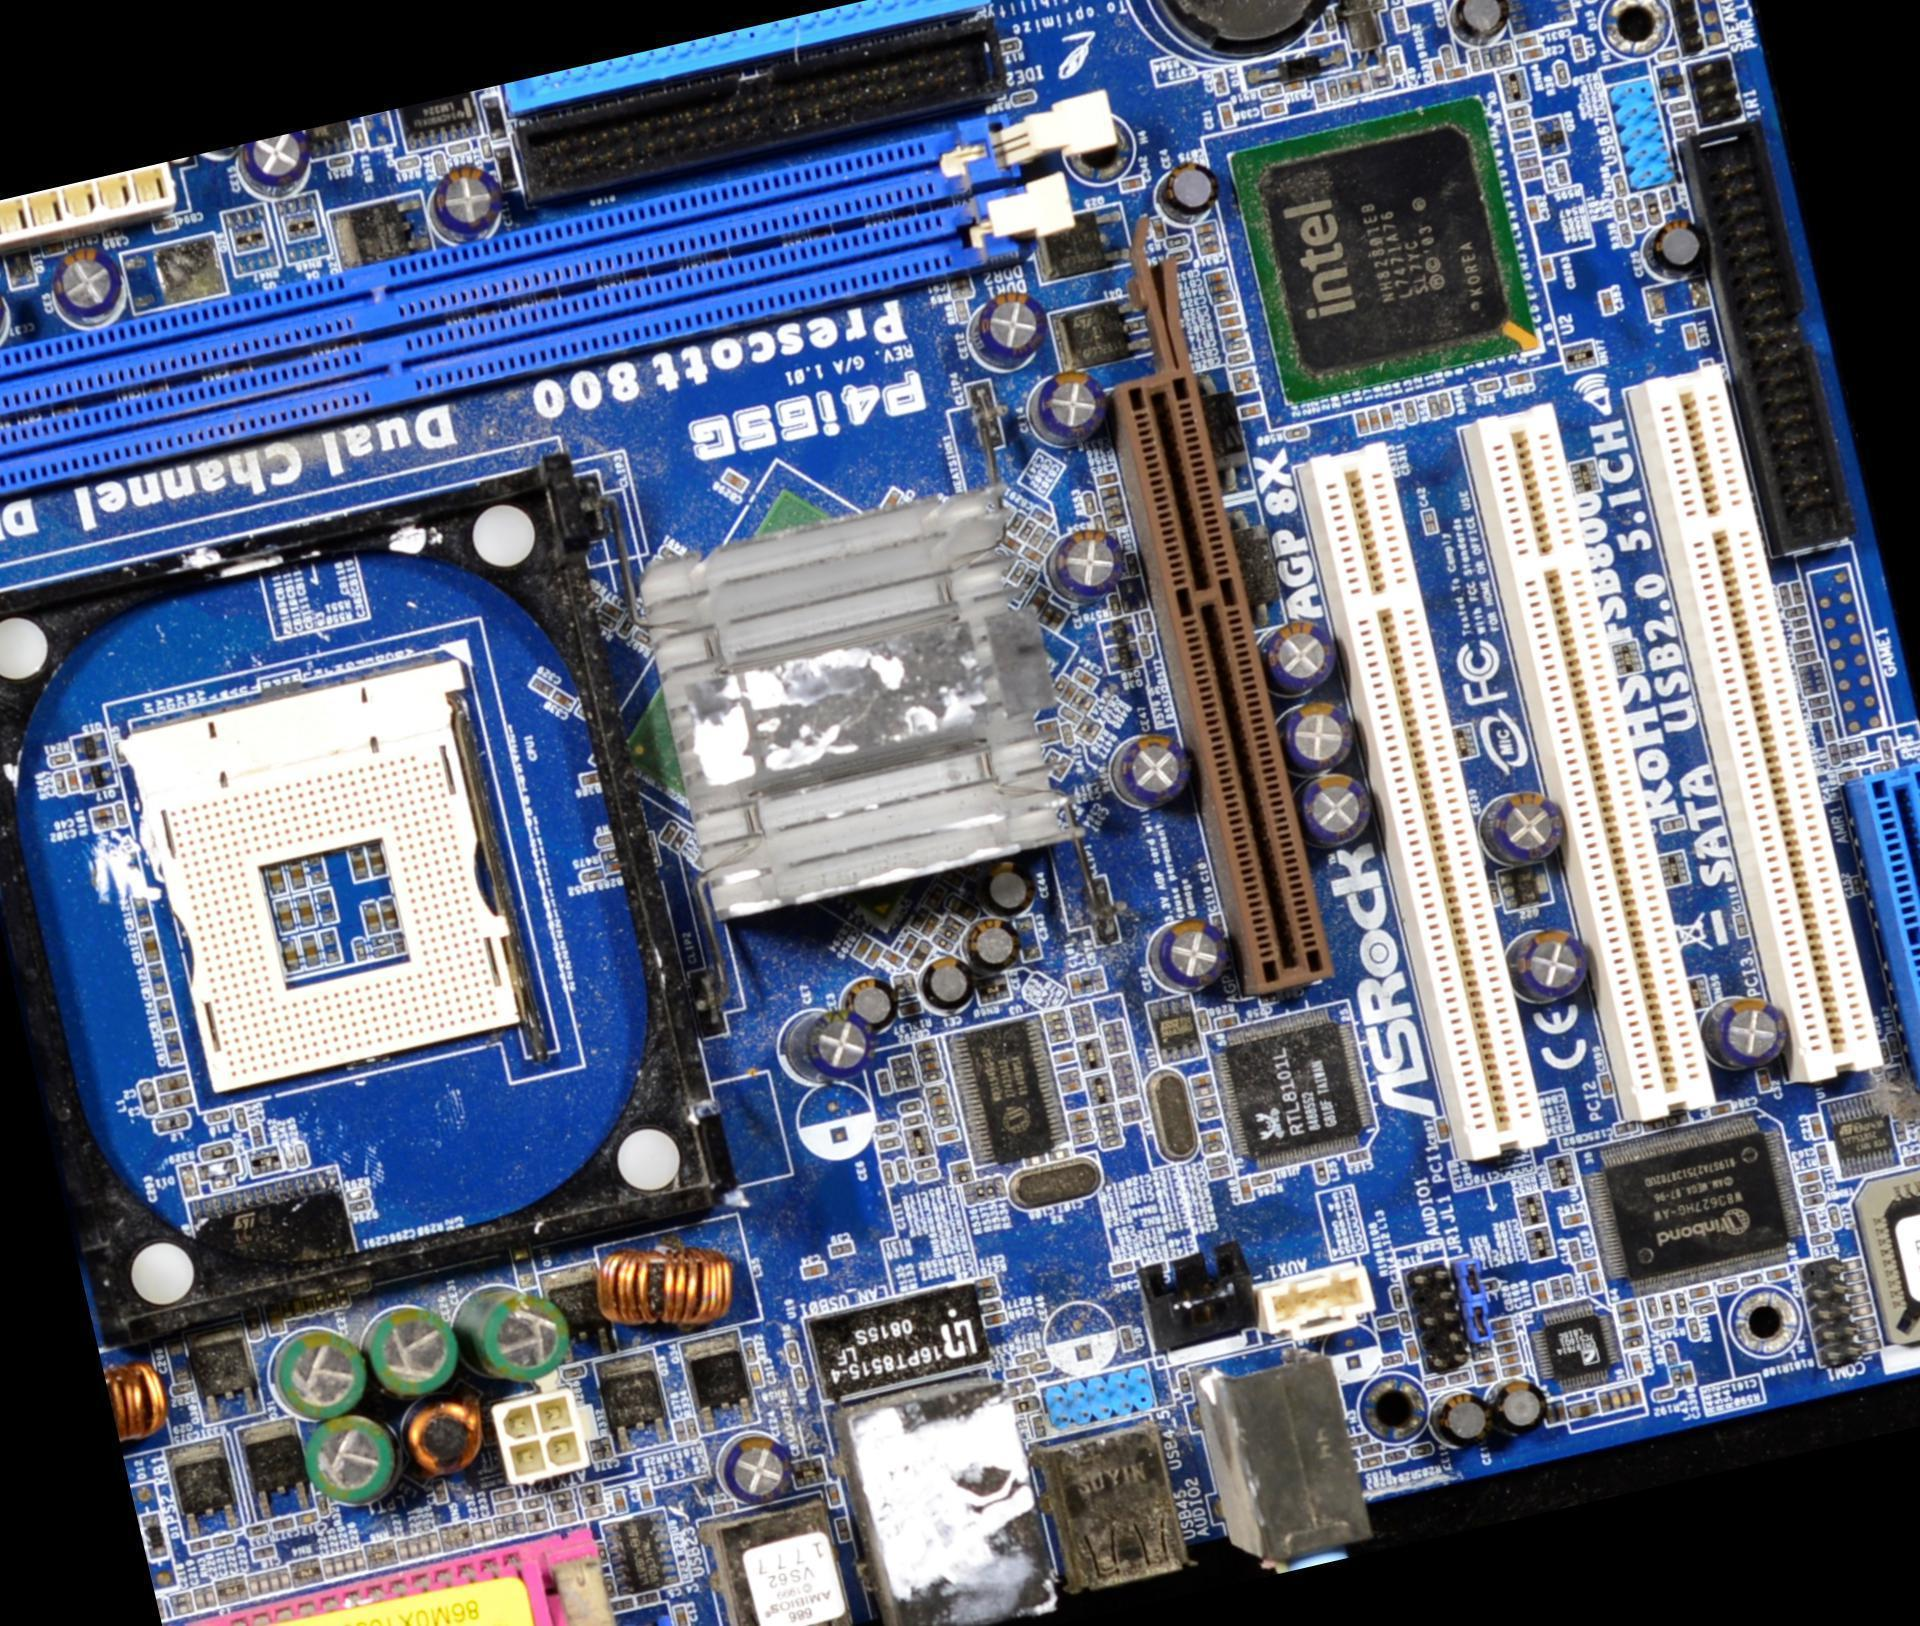Capacitor: (717, 463, 751, 498), (154, 1073, 190, 1095), (179, 1164, 200, 1198), (158, 1089, 191, 1110), (552, 687, 577, 713), (530, 674, 553, 698), (1657, 814, 1687, 832), (1229, 368, 1256, 385), (1353, 409, 1371, 434), (1733, 913, 1750, 938), (251, 1544, 276, 1561), (611, 1490, 628, 1515), (1343, 1148, 1369, 1164), (1620, 1324, 1646, 1340), (934, 1127, 958, 1144), (1219, 313, 1243, 330), (1435, 1116, 1451, 1141), (270, 1516, 295, 1532), (470, 1520, 486, 1545), (1059, 1079, 1082, 1096), (1611, 1120, 1637, 1135), (748, 1363, 763, 1389), (1614, 1301, 1640, 1316), (1367, 406, 1382, 432), (801, 1262, 825, 1278), (202, 1585, 218, 1609), (1616, 1310, 1641, 1325), (1218, 102, 1233, 127), (1190, 1074, 1213, 1090), (1068, 974, 1083, 998), (1052, 1050, 1076, 1065), (481, 1519, 496, 1543), (638, 1484, 653, 1508), (322, 1558, 337, 1582), (192, 1588, 207, 1612), (1764, 1266, 1788, 1281), (1629, 1352, 1644, 1376), (1599, 1391, 1614, 1415), (1539, 256, 1554, 280), (1599, 291, 1614, 315), (1609, 1390, 1625, 1412), (258, 1571, 272, 1596), (493, 1489, 516, 1504), (1120, 176, 1143, 191), (1380, 406, 1395, 429), (427, 1531, 441, 1555), (278, 1568, 292, 1592), (1234, 378, 1258, 392), (351, 1552, 366, 1574), (1047, 1148, 1070, 1162), (296, 1512, 319, 1526), (153, 218, 176, 232), (418, 1535, 432, 1558), (331, 1555, 345, 1578), (406, 1538, 420, 1561), (341, 1553, 355, 1576), (826, 1484, 840, 1507), (1630, 1385, 1644, 1408), (1515, 35, 1538, 49), (1263, 101, 1286, 115), (1684, 325, 1698, 348), (65, 769, 79, 792), (1535, 1284, 1550, 1305), (1201, 1132, 1223, 1146), (984, 1312, 1006, 1326), (1576, 1259, 1598, 1273), (1550, 1279, 1564, 1301), (1688, 1285, 1710, 1299), (674, 1605, 689, 1625), (1024, 1155, 1047, 1168), (497, 1502, 520, 1515), (269, 1570, 282, 1593), (1223, 328, 1246, 341), (235, 1108, 248, 1130), (1216, 1016, 1238, 1029), (929, 1096, 951, 1109), (1068, 1111, 1090, 1124), (1240, 1179, 1253, 1201), (975, 1277, 997, 1290), (1562, 1213, 1584, 1226), (295, 1513, 317, 1526), (189, 1540, 211, 1553), (1798, 1171, 1820, 1184), (397, 1541, 410, 1563), (1283, 80, 1305, 93), (1432, 60, 1445, 82), (1522, 46, 1544, 59), (1445, 66, 1467, 79), (1527, 199, 1540, 221), (1240, 404, 1262, 417), (1509, 373, 1531, 386), (1096, 473, 1118, 486), (581, 772, 600, 787), (1225, 339, 1245, 353), (213, 1534, 236, 1546), (1588, 1272, 1601, 1293), (1682, 1365, 1695, 1386), (1619, 1387, 1632, 1408), (1199, 243, 1220, 256), (1217, 303, 1238, 316), (92, 807, 113, 820), (1193, 1087, 1214, 1099), (1196, 1096, 1217, 1108), (248, 1575, 260, 1596), (1100, 486, 1119, 499), (1810, 1117, 1822, 1137), (1231, 353, 1249, 364)
Connector: (0, 107, 1039, 513), (1301, 440, 1550, 1164), (1645, 363, 1882, 1088), (1476, 404, 1714, 1121), (1860, 760, 1919, 1095)
IC: (1226, 90, 1540, 407), (1575, 1104, 1811, 1302), (1523, 1294, 1629, 1401)
Resistor: (199, 1141, 235, 1164), (911, 1155, 938, 1173), (1673, 1291, 1692, 1316), (900, 1112, 926, 1130), (898, 1098, 925, 1115), (919, 1068, 946, 1084), (1739, 1272, 1766, 1288), (1644, 1296, 1662, 1320), (1714, 1280, 1739, 1297), (1667, 99, 1692, 116), (352, 124, 368, 150), (891, 1065, 917, 1081), (1098, 1136, 1124, 1152), (1799, 1181, 1825, 1197), (1650, 1316, 1676, 1332), (895, 1158, 911, 1183), (1284, 425, 1309, 441), (1081, 491, 1097, 516), (1623, 1336, 1646, 1353), (281, 1145, 297, 1169), (1092, 1104, 1116, 1120), (1096, 1116, 1120, 1132), (962, 1182, 978, 1206), (1826, 1205, 1842, 1229), (1107, 593, 1123, 617), (580, 869, 604, 885), (876, 1136, 901, 1151), (244, 1524, 269, 1539), (1660, 1292, 1675, 1317), (1684, 1318, 1699, 1343), (1475, 379, 1500, 394), (49, 752, 74, 767), (1513, 138, 1536, 154), (1046, 1029, 1070, 1044), (1555, 61, 1570, 85), (1044, 1009, 1065, 1026), (294, 1142, 308, 1167), (114, 803, 128, 828), (874, 1122, 897, 1137), (1250, 1172, 1273, 1187), (1137, 635, 1152, 658), (786, 1341, 800, 1365), (999, 37, 1020, 53), (1517, 154, 1538, 170), (1210, 290, 1234, 304), (207, 1109, 230, 1123), (916, 1048, 939, 1062), (346, 1188, 369, 1202), (932, 1115, 955, 1129), (881, 1163, 895, 1186), (973, 1181, 987, 1204), (172, 1383, 195, 1397), (743, 1340, 757, 1363), (396, 156, 419, 170), (1809, 1232, 1832, 1246), (1619, 222, 1633, 245), (1437, 393, 1451, 416), (433, 154, 448, 175), (347, 1200, 371, 1213), (1613, 176, 1627, 198), (1098, 1126, 1121, 1139), (930, 1104, 951, 1118), (1204, 1142, 1225, 1156), (1047, 1020, 1069, 1033), (1197, 1010, 1210, 1032), (925, 1084, 947, 1097), (330, 155, 352, 168), (1072, 1131, 1094, 1144), (983, 1178, 996, 1200), (794, 1368, 807, 1390), (1653, 1388, 1675, 1401), (1012, 91, 1034, 104), (1507, 106, 1529, 119), (1508, 117, 1530, 130), (1166, 235, 1188, 248), (1520, 167, 1542, 180), (1428, 396, 1441, 418), (978, 1288, 999, 1301), (685, 1419, 698, 1440), (1016, 1353, 1037, 1366), (1029, 1361, 1050, 1374), (54, 773, 67, 794), (1613, 197, 1626, 217), (1070, 1120, 1091, 1132), (1199, 1108, 1220, 1120), (448, 142, 469, 154), (1260, 86, 1281, 98), (1169, 251, 1190, 263), (1404, 401, 1416, 422), (982, 1302, 1002, 1314), (1561, 1277, 1573, 1297)
Transistor: (162, 1434, 245, 1539), (677, 1331, 760, 1435), (234, 1416, 315, 1522), (592, 1351, 672, 1454), (71, 731, 111, 763), (79, 759, 117, 791)
